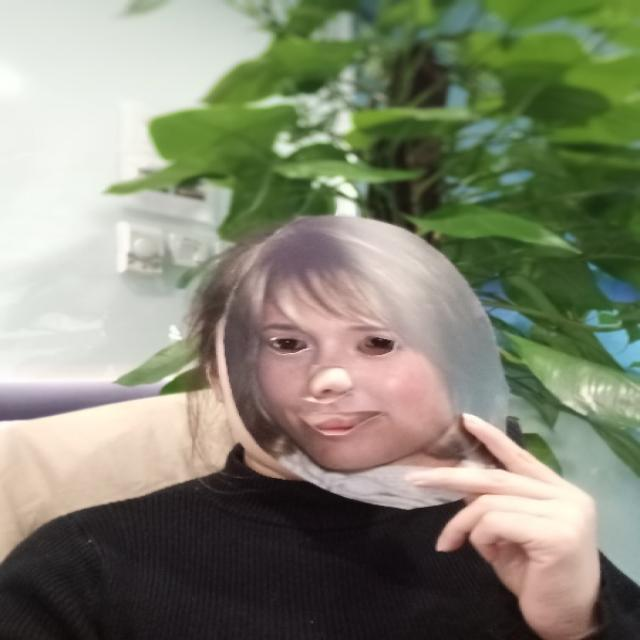mask: (218, 214, 522, 508)
